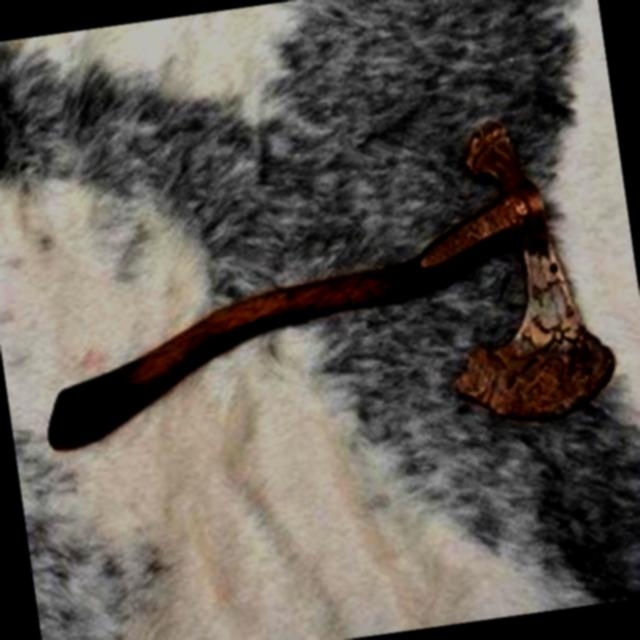ax: (7, 102, 629, 502)
